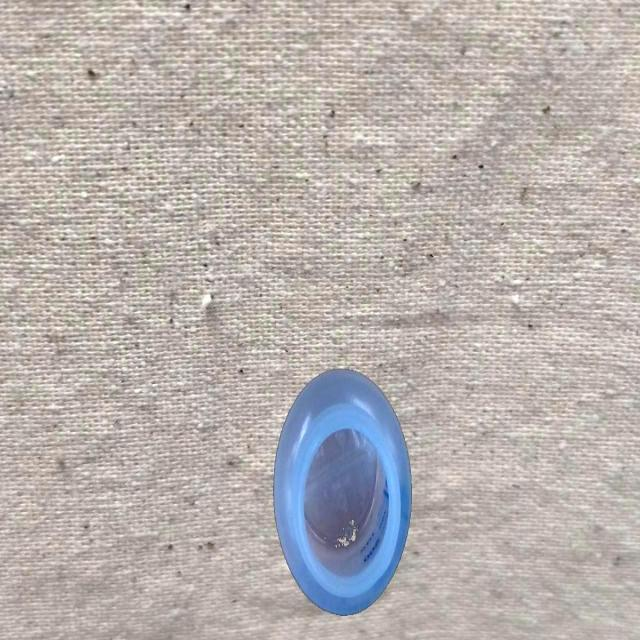bottle: (271, 364, 415, 620)
